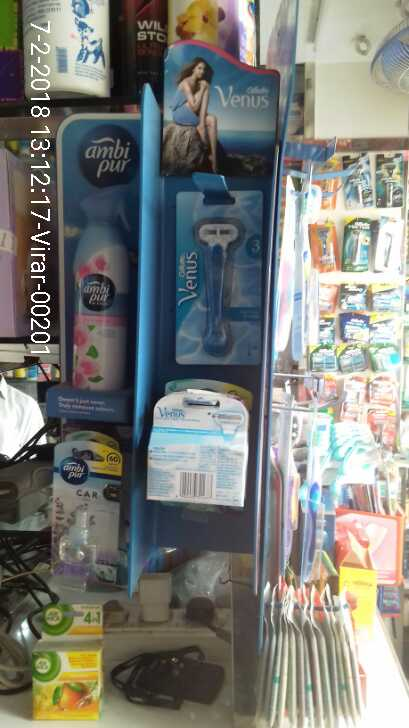beauty: (175, 187, 262, 365), (339, 215, 375, 279), (342, 152, 375, 215), (373, 152, 403, 211), (309, 220, 336, 274), (315, 156, 339, 209)
home: (72, 185, 127, 390)
